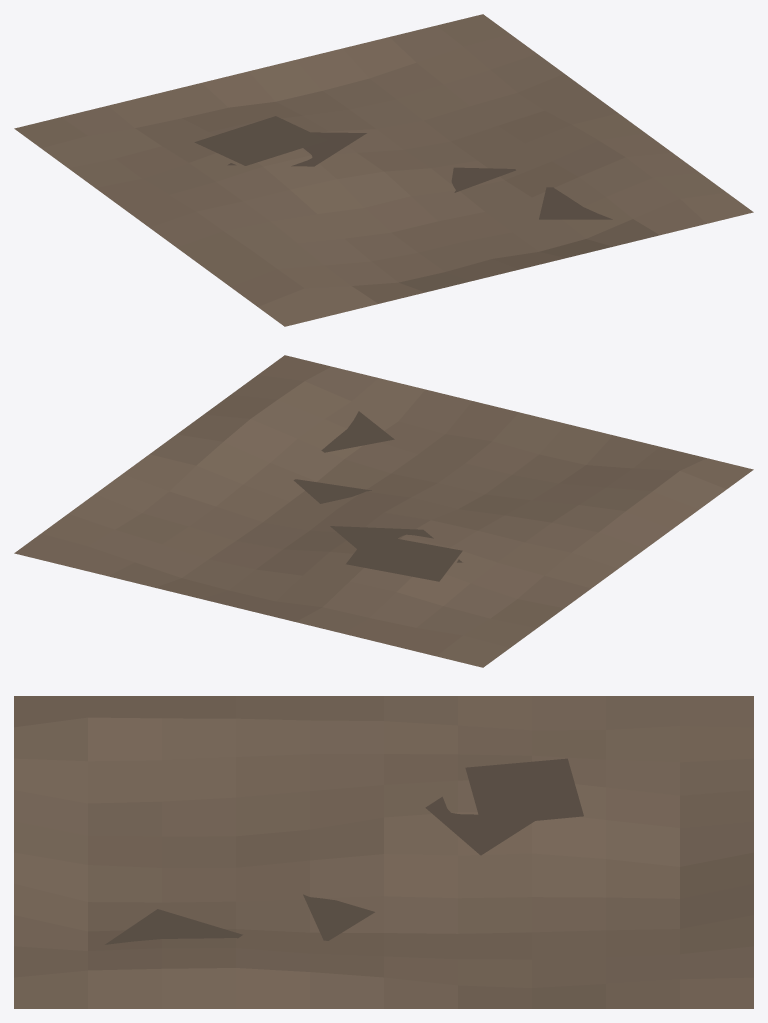
File: mud_lowpoly_a.glb
The picture shows the model from 3 angles, top to bottom: view 1: azimuth 30°, elevation 25°; view 2: azimuth 150°, elevation 25°; view 3: azimuth 270°, elevation 25°; orthographic projection. The views are drawn at different scales.
Parts seen in each view (by area): view 1: MudTile; view 2: MudTile; view 3: MudTile.
Boxes of the visible parts, left/top/right/bottom form: MudTile: left=14, top=14, right=753, bottom=326; MudTile: left=14, top=355, right=753, bottom=667; MudTile: left=14, top=696, right=753, bottom=1008.
Size of the model in its own units: 1 by 0.0472 by 1.
